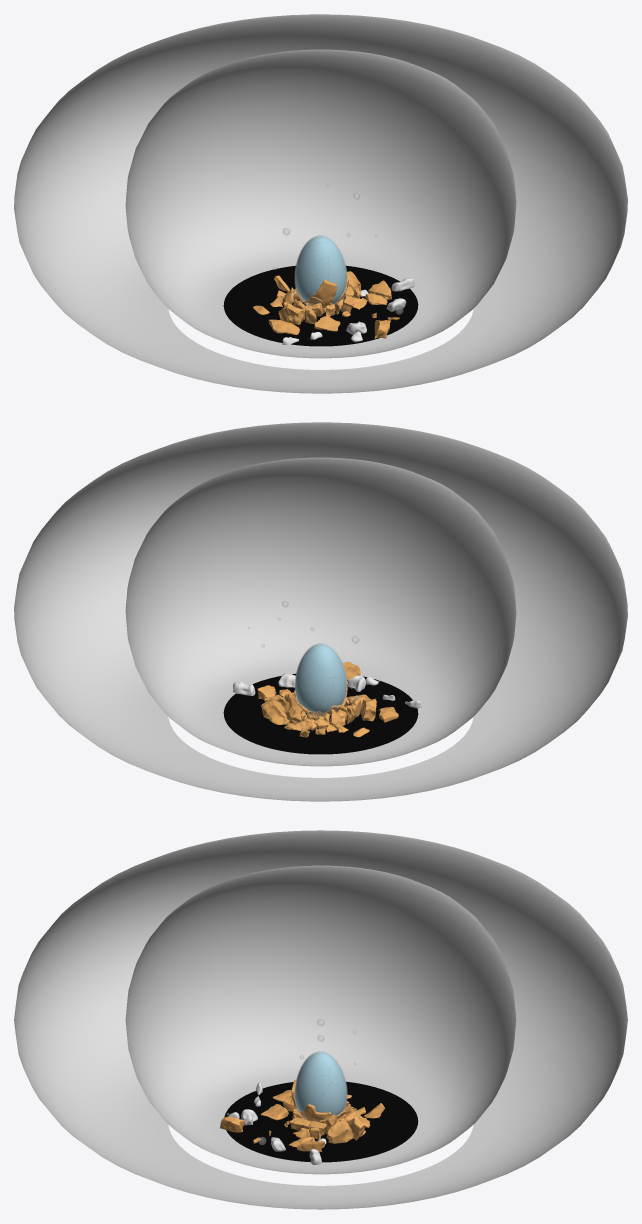
File: PXLs_egg186.glb
3 renders of one model, top to bottom at view 1: azimuth 30°, elevation 25°; view 2: azimuth 150°, elevation 25°; view 3: azimuth 270°, elevation 25°, orthographic.
Visible parts, largest first — view 1: outerCylinder, innerCylinder, floorBase, rockDebris, smoke4, smoke3, crackedEgg, brokenEggCrust; view 2: outerCylinder, innerCylinder, floorBase, rockDebris, smoke4, smoke3, crackedEgg; view 3: outerCylinder, innerCylinder, floorBase, rockDebris, smoke4, smoke3, crackedEgg.
Boxes of the visible parts, bbox=[...] form: outerCylinder: bbox=[14, 14, 627, 393]; innerCylinder: bbox=[125, 49, 516, 358]; floorBase: bbox=[223, 265, 418, 346]; rockDebris: bbox=[268, 271, 391, 338]; smoke4: bbox=[295, 235, 346, 307]; smoke3: bbox=[295, 235, 346, 303]; crackedEgg: bbox=[295, 236, 346, 303]; brokenEggCrust: bbox=[296, 276, 349, 308]; outerCylinder: bbox=[14, 422, 627, 801]; innerCylinder: bbox=[125, 457, 516, 766]; floorBase: bbox=[223, 673, 418, 754]; rockDebris: bbox=[257, 661, 398, 737]; smoke4: bbox=[295, 643, 346, 716]; smoke3: bbox=[295, 643, 346, 715]; crackedEgg: bbox=[295, 644, 346, 713]; outerCylinder: bbox=[14, 830, 627, 1209]; innerCylinder: bbox=[125, 865, 516, 1174]; floorBase: bbox=[224, 1081, 418, 1162]; rockDebris: bbox=[220, 1089, 384, 1151]; smoke4: bbox=[295, 1051, 347, 1120]; smoke3: bbox=[295, 1051, 346, 1114]; crackedEgg: bbox=[295, 1052, 346, 1114].
Size of the model in its own units: 21.89 by 8.17 by 21.89.
Materials: 8 (2 with a texture image).
